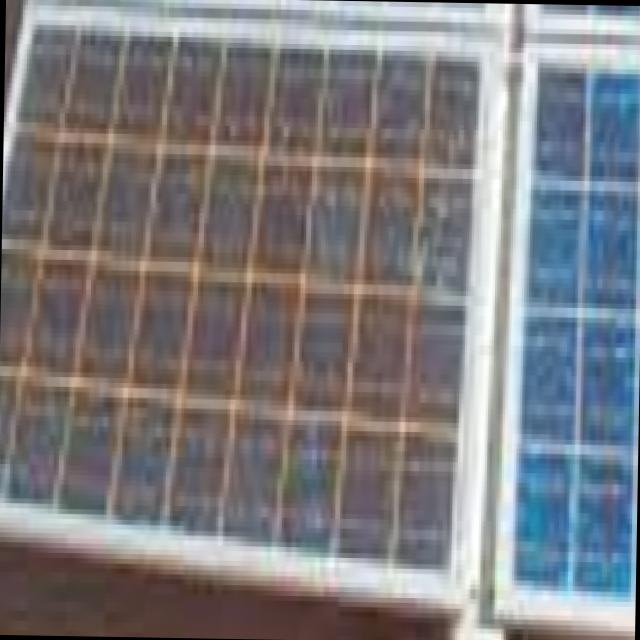faulty: (6, 23, 463, 592)
